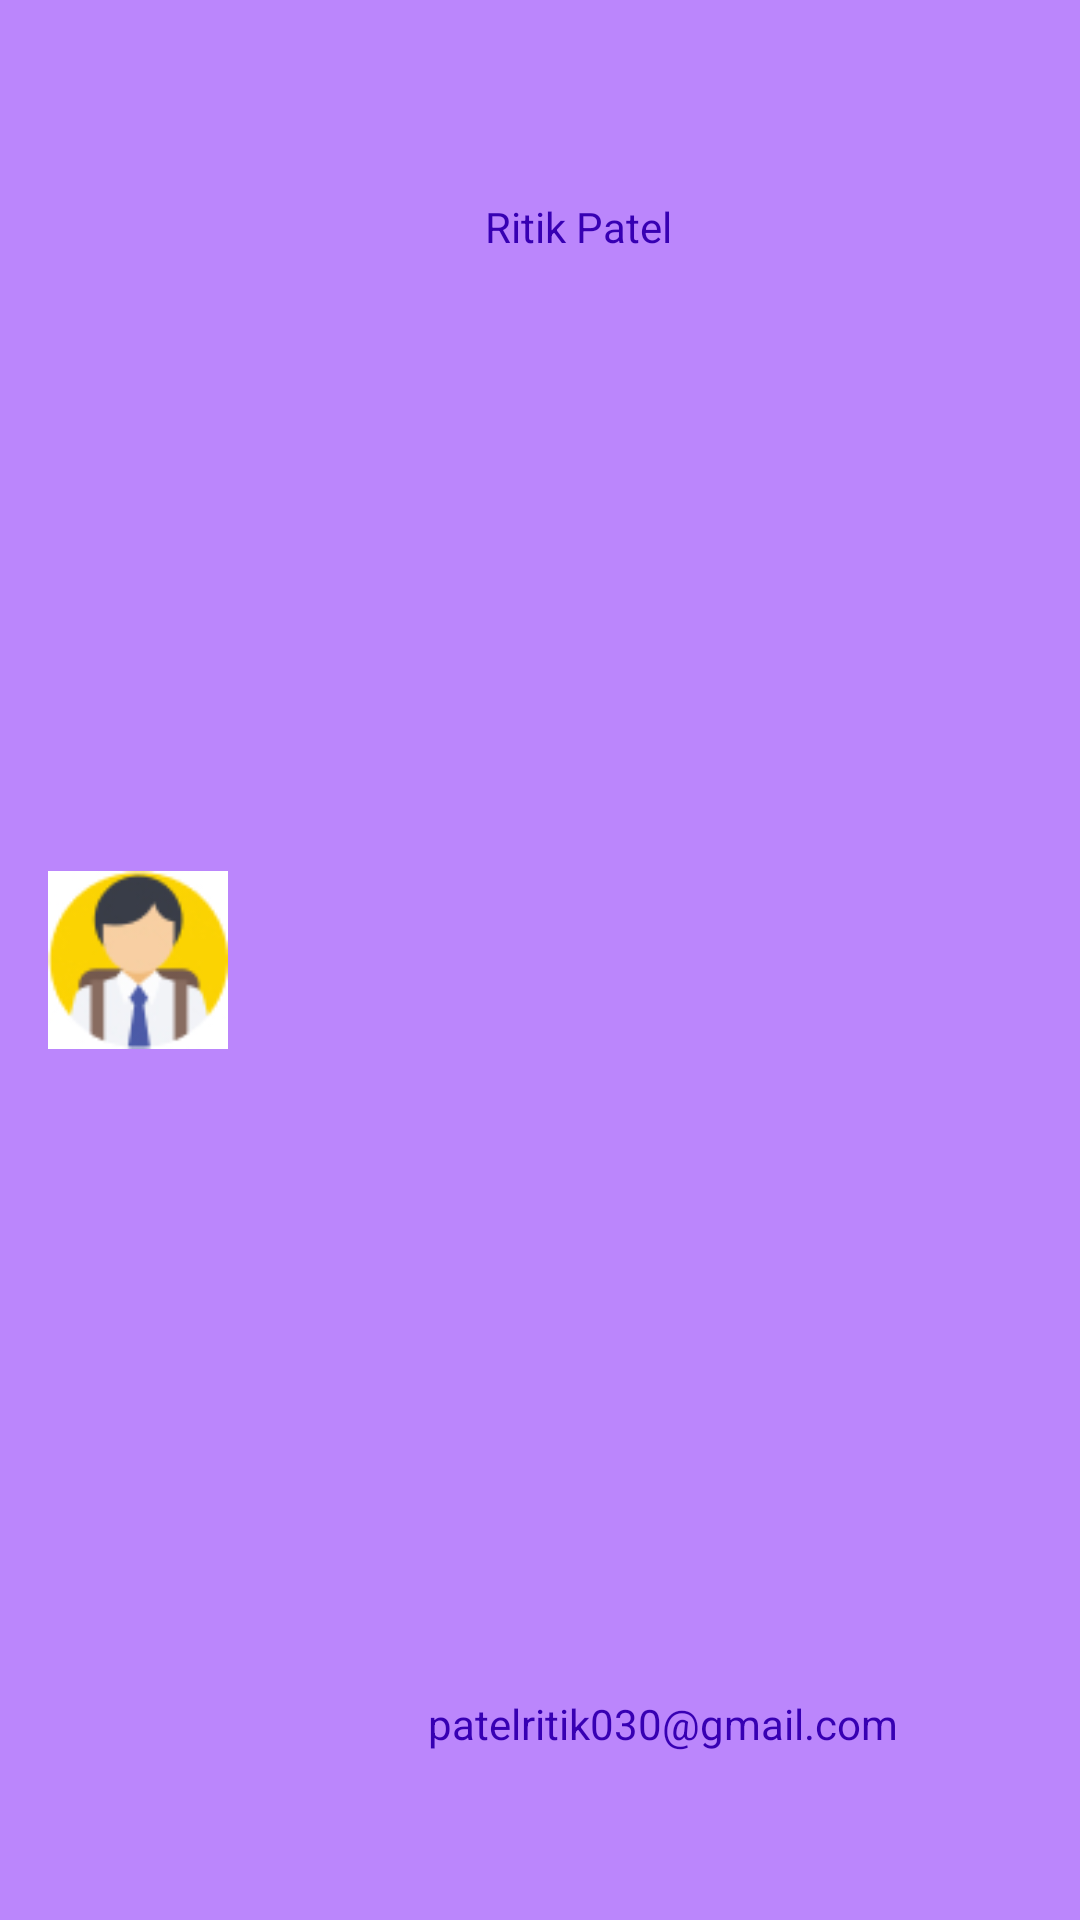

Where icons sit on this 1080w x 1920h app screen, as (x1=x1, y1=y1, x2=x2, y2=y2):
profile: (x1=48, y1=871, x2=228, y2=1049)
